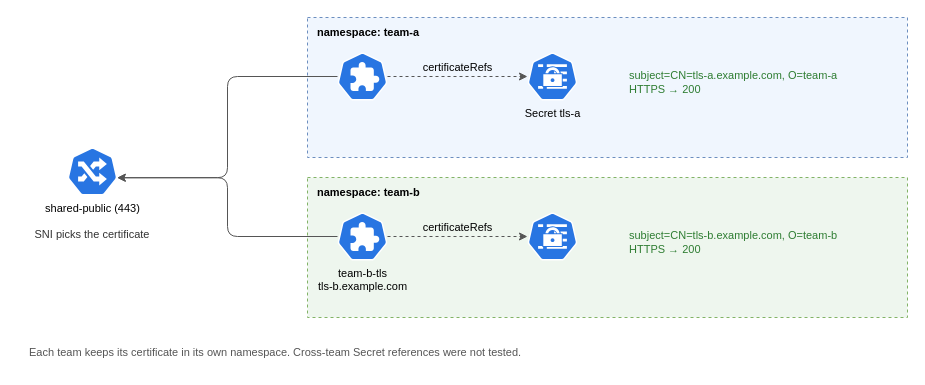
Some shapes in this 925 by 385 pixel diagram are drawn without their labels. The shapes that lost their labels are listed below. From the top down, each one's box as (x1, y1, x2, y2) in pixels, then its label:
(336, 52, 388, 100): team-a-tls tls-a.example.com
(526, 212, 578, 260): Secret tls-b
